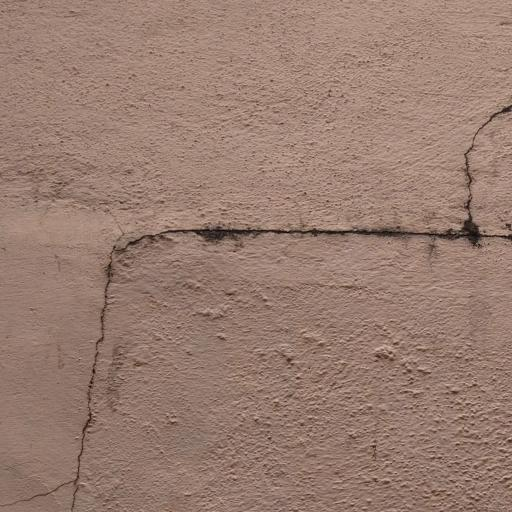minor_crack: (28, 45, 512, 512)
